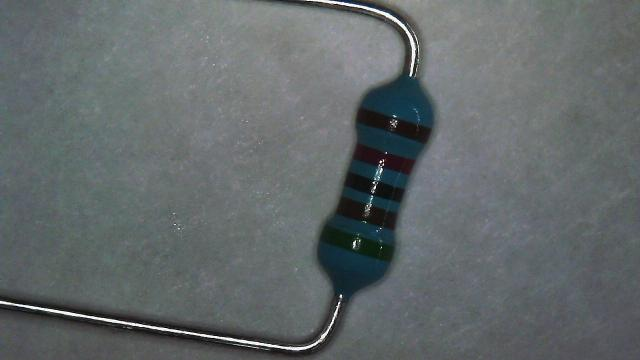black: (344, 170, 404, 201)
brown: (357, 106, 430, 142), (336, 197, 396, 228)
green: (320, 225, 392, 261)
red: (354, 144, 414, 174)
resistor: (306, 68, 447, 296)
